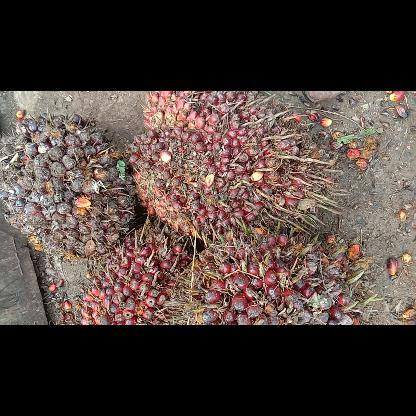Kurang masak: (0, 111, 140, 261)
TBS masak: (126, 90, 342, 246), (173, 224, 375, 324), (80, 216, 198, 324)
